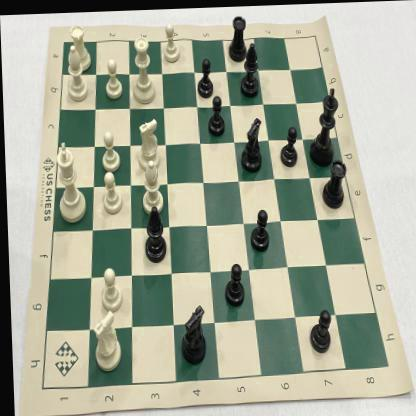black-bishop: (141, 202, 166, 263), (238, 39, 262, 102)
black-king: (305, 82, 341, 166)
black-knight: (176, 300, 206, 365), (238, 114, 264, 174)
black-pawn: (304, 306, 332, 355), (246, 204, 270, 254), (221, 260, 244, 308), (278, 121, 299, 168), (207, 92, 226, 138), (194, 55, 214, 98)
black-rook: (318, 156, 350, 212), (226, 10, 249, 62)
white-bishop: (62, 42, 91, 101), (140, 156, 162, 212)
white-king: (52, 138, 87, 222)
white-knight: (88, 304, 121, 372), (135, 114, 162, 171)
white-pawn: (97, 263, 122, 311), (98, 168, 124, 214), (102, 51, 126, 100), (98, 126, 122, 172), (161, 17, 182, 63)
white-queen: (128, 30, 158, 104)
white-rook: (66, 19, 94, 73)
